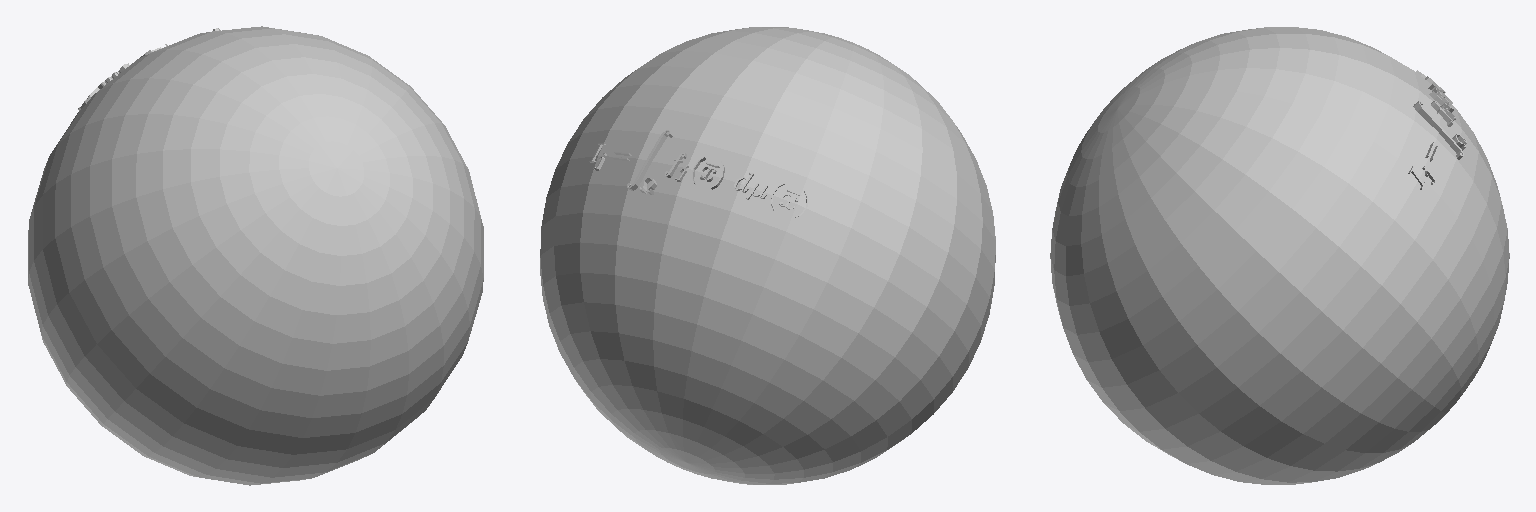
The model's file is knob0.obj.
The picture shows the model from 3 angles: view 1: azimuth 30°, elevation 25°; view 2: azimuth 150°, elevation 25°; view 3: azimuth 270°, elevation 25°; orthographic projection.
Parts seen in each view (by area): view 1: inner; view 2: inner; view 3: inner.
Boxes of the visible parts, x1=… form: inner: x1=28, y1=26, x2=483, y2=485; inner: x1=540, y1=27, x2=995, y2=484; inner: x1=1050, y1=27, x2=1509, y2=484.
Size of the model in its own units: 0.7125 by 0.7125 by 0.7125.